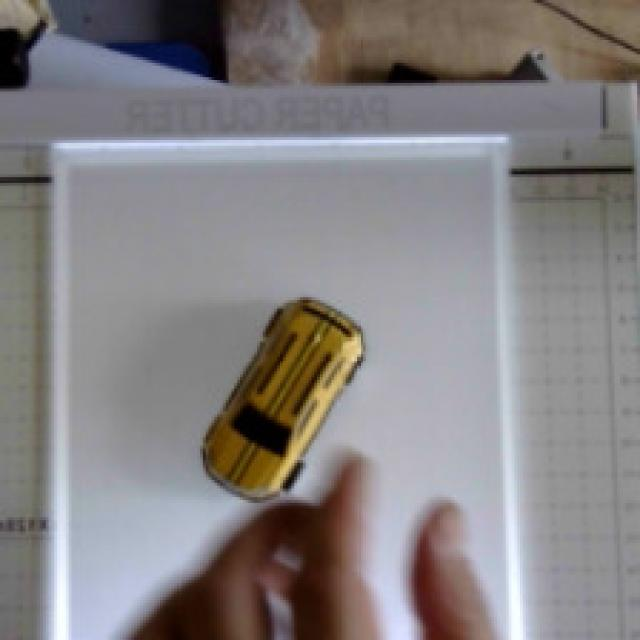Yellow Car: (147, 277, 358, 506)
